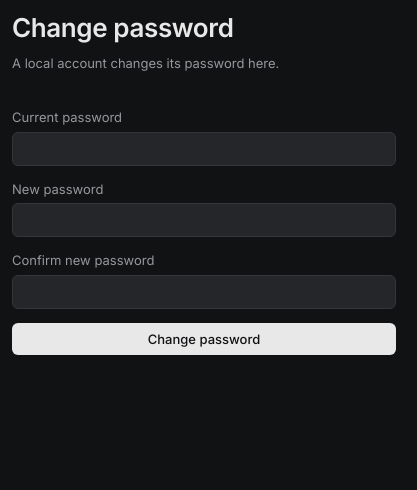
Test case: PasswordChange › stays when the account cannot be read again
Type "old-password-1" into the password field labelled "Current password". click: (204, 148)
box: 12,132 -> 396,166
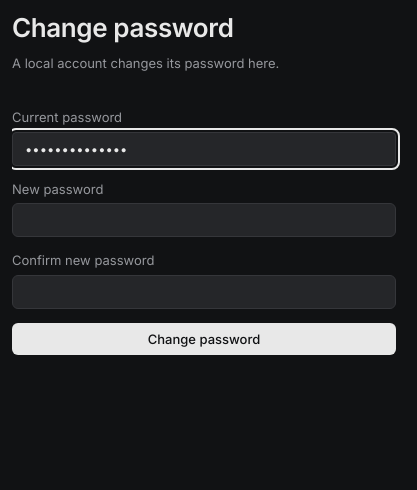
Type "new-password-1" into the password field labelled "New password". click: (204, 220)
box: 12,203 -> 396,237
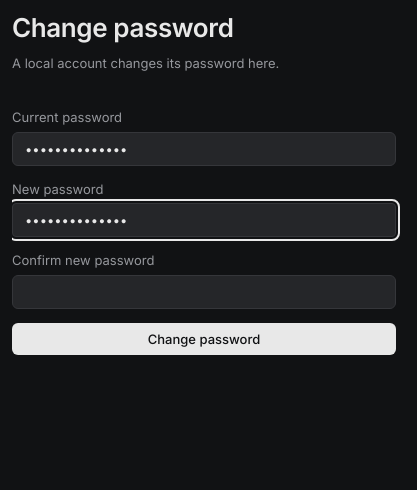
Type "new-password-1" into the password field labelled "Confirm new password". click: (204, 292)
box: 12,274 -> 396,308
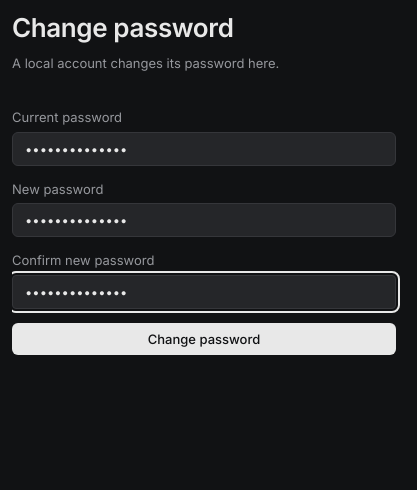
Click the button "Change password". click: (204, 338)
box: 12,322 -> 396,354
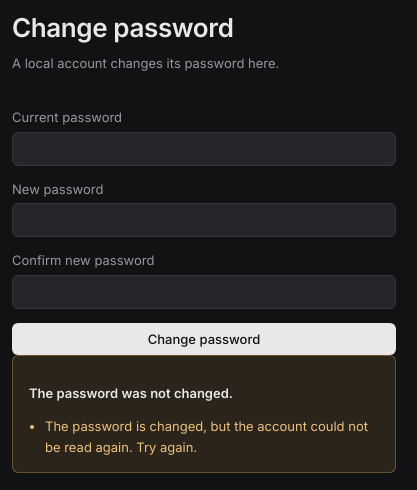
expect the message shows "The password is changed, but the account could not be read again. Try again.": met, box 45,418 -> 368,455
